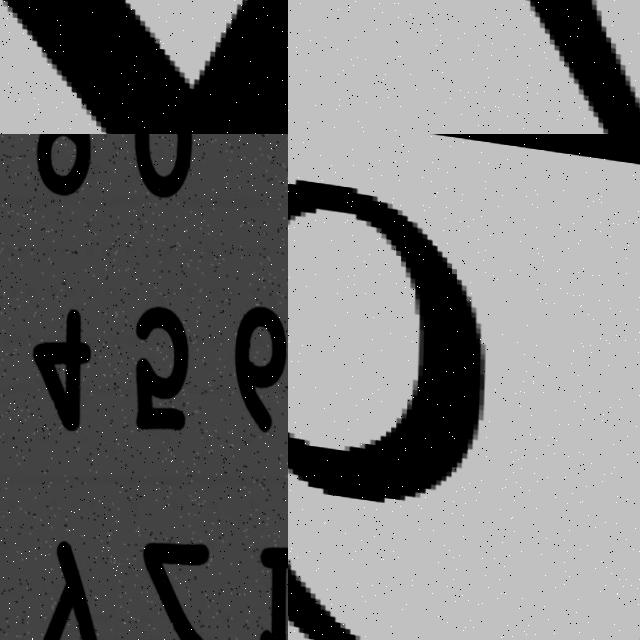0: (102, 134, 222, 231)
1: (229, 519, 288, 640)
4: (3, 277, 116, 451)
5: (100, 275, 219, 466)
6: (288, 150, 501, 640), (199, 274, 288, 462)
7: (415, 0, 640, 134)
9: (4, 134, 122, 244)
X: (0, 0, 288, 134)
